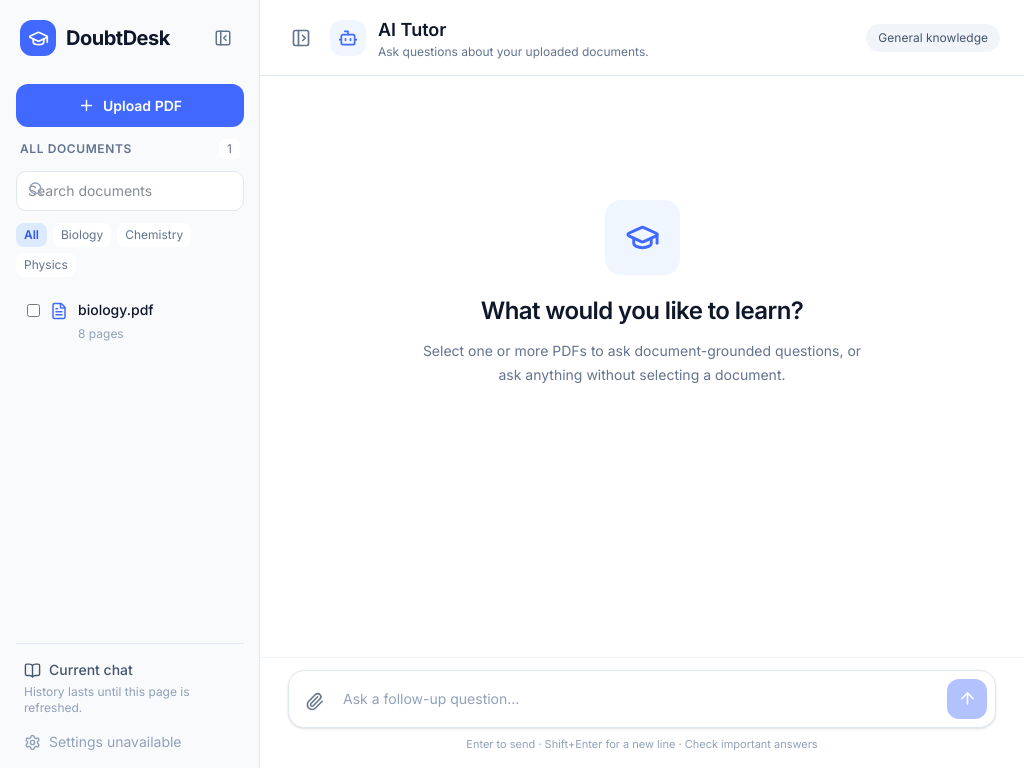
Test case: DoubtDesk interactions › selects a document for grounded questions
Click the checkbox at (34, 310), box [27,304,40,317]
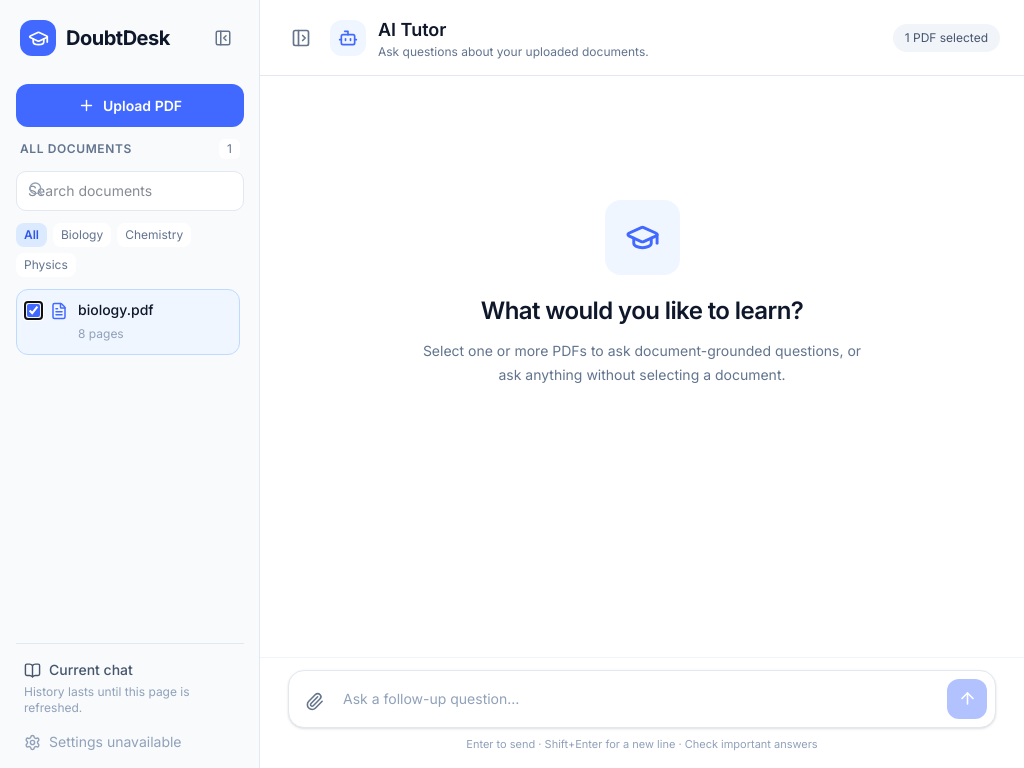
Check: the text "1 PDF selected" is shown, box [893,24,1000,52]
